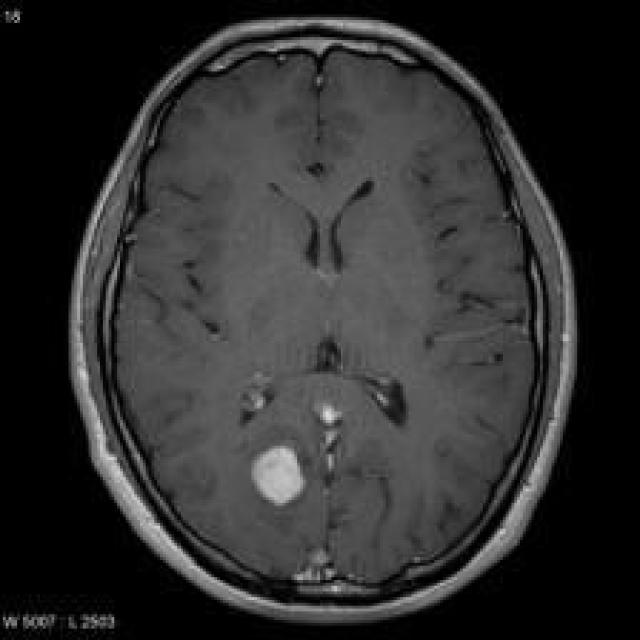Tumor: (251, 449, 306, 507)
